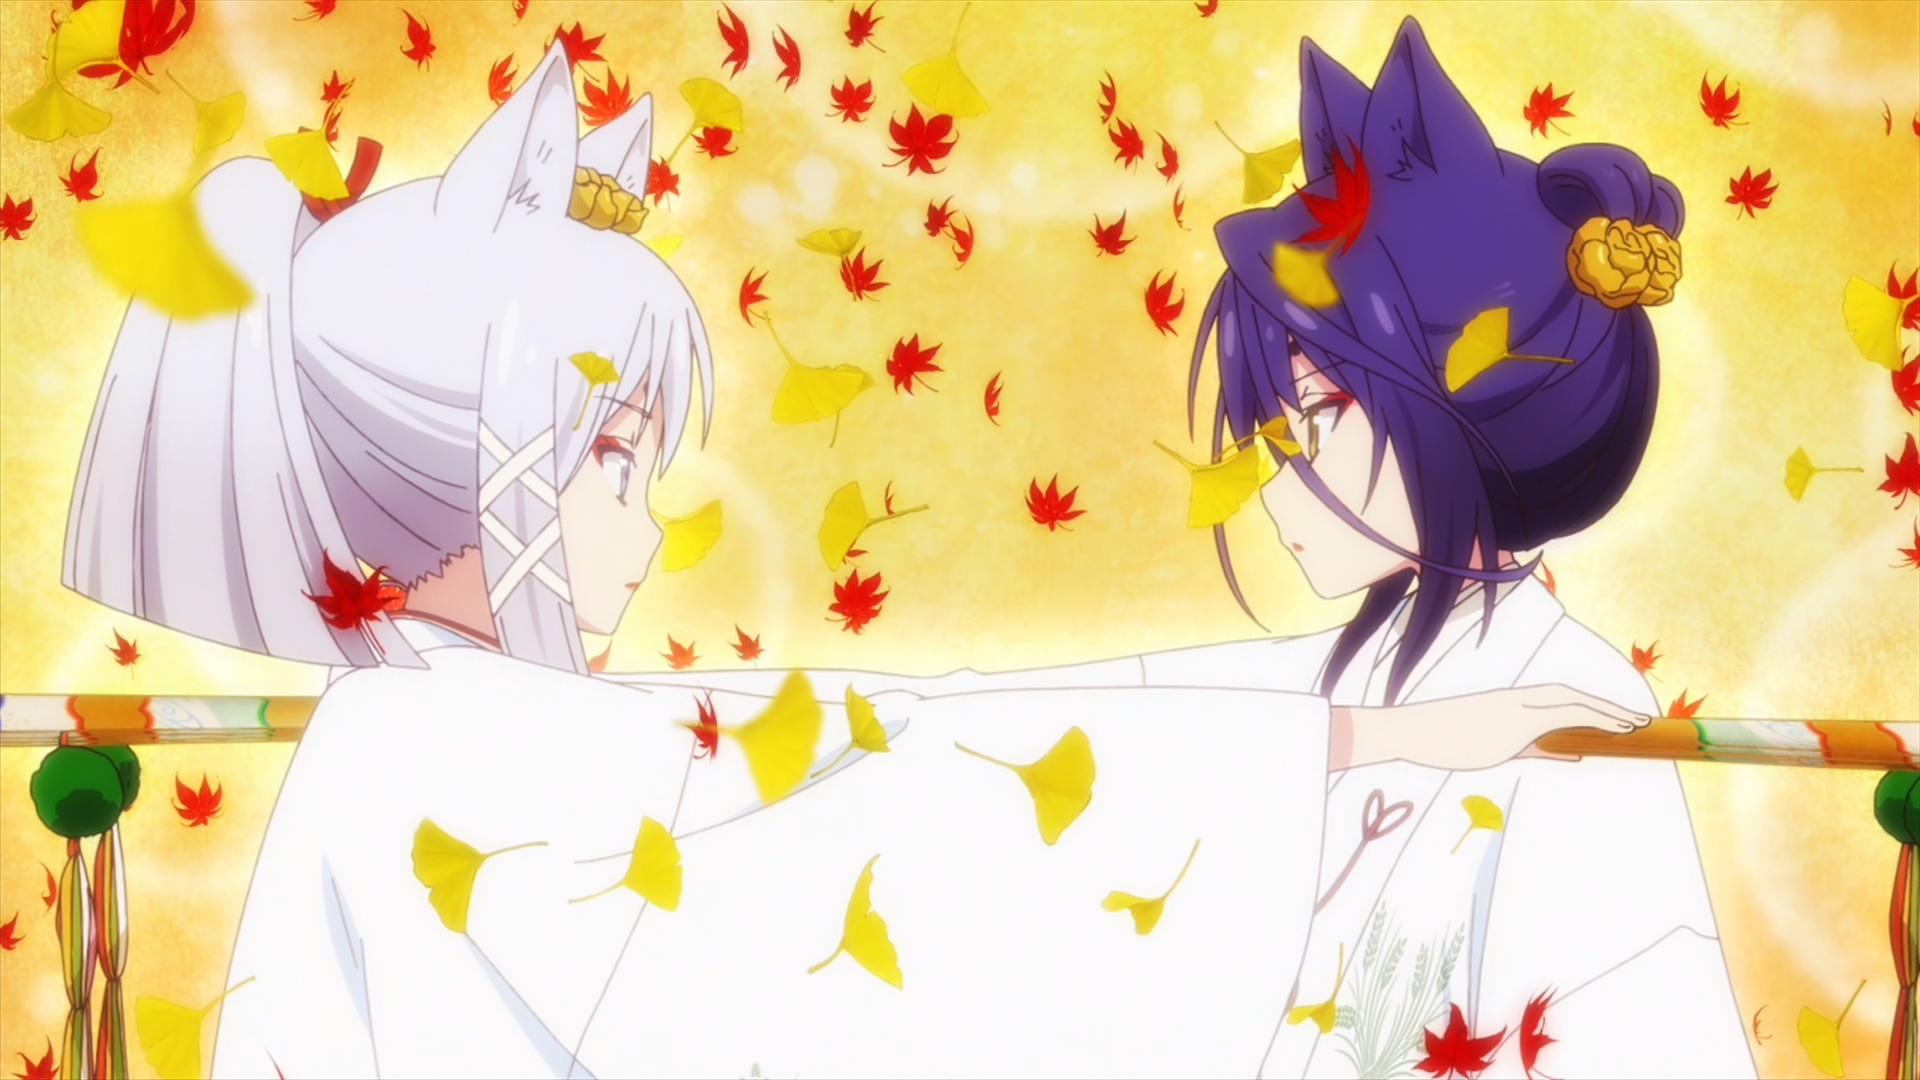柊: (61, 37, 1648, 1080)
皋: (585, 12, 1753, 1080)
